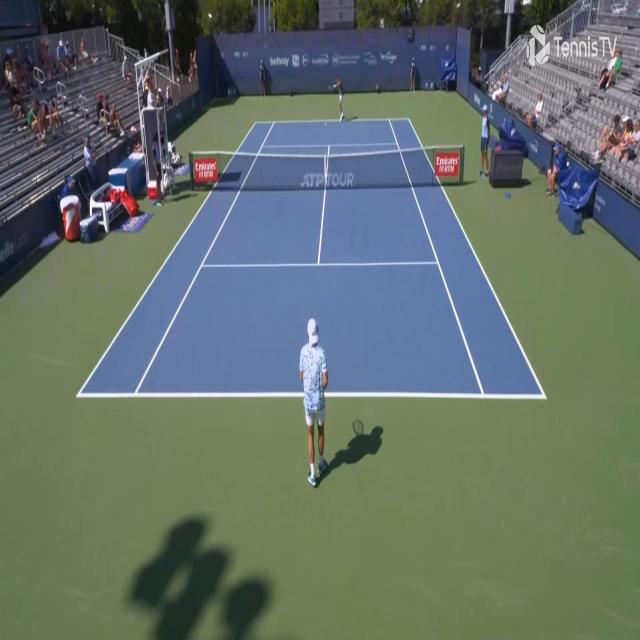tennis-player: (298, 315, 332, 492), (331, 74, 346, 123)
